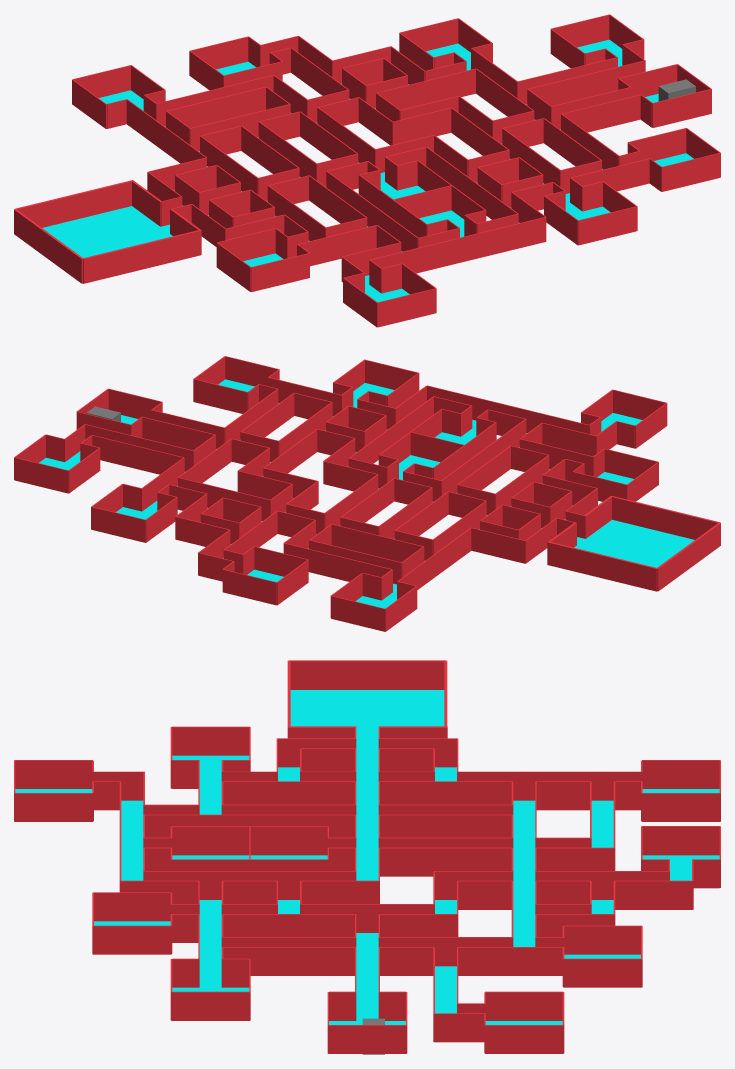
Rendered from SpaceShipOri.fbx.
The picture shows the model from 3 angles, top to bottom: view 1: azimuth 30°, elevation 25°; view 2: azimuth 150°, elevation 25°; view 3: azimuth 270°, elevation 25°; orthographic projection. The views are drawn at different scales.
Visible parts, largest first — view 1: Plane__1__45, Cube__5__19, Cube__5__20, Cube__5__21, Cube__5__32, Cube__5__16, Cube__5__56, Cube__1_, Cube__8__10, Cube__5__34, Cube__6_, Cube__6__5 (+74 smaller); view 2: Plane__1__45, Cube__5__20, Cube__5__19, Cube__5__21, Cube__5__15, Cube__5__52, Cube__5__43, Cube__5__40, Cube__5__48, Cube__5__5, Cube__8__16, Cube__5_ (+73 smaller); view 3: Plane__1__45, Cube__5__21, Cube__5__39, Cube__5__54, Cube__5__17, Cube__5__23, Cube__5__27, Cube__5__36, Cube__5__44, Cube__5__50, Cube__5__38, Cube__5__55 (+99 smaller).
Boxes of the visible parts, bbox=[...] form: Plane__1__45: bbox=[42, 206, 172, 257]; Cube__5__19: bbox=[82, 230, 200, 283]; Cube__5__20: bbox=[14, 180, 132, 227]; Cube__5__21: bbox=[14, 209, 83, 283]; Cube__5__32: bbox=[377, 288, 436, 327]; Cube__5__16: bbox=[661, 153, 720, 191]; Cube__5__56: bbox=[578, 206, 637, 245]; Cube__1_: bbox=[652, 89, 711, 127]; Cube__8__10: bbox=[449, 226, 507, 265]; Cube__5__34: bbox=[251, 253, 309, 292]; Cube__6_: bbox=[582, 94, 640, 132]; Cube__6__5: bbox=[548, 69, 607, 105]; Plane__1__45: bbox=[574, 519, 694, 567]; Cube__5__20: bbox=[549, 542, 657, 591]; Cube__5__19: bbox=[611, 496, 720, 539]; Cube__5__21: bbox=[657, 522, 720, 591]; Cube__5__15: bbox=[193, 379, 248, 413]; Cube__5__52: bbox=[14, 457, 68, 493]; Cube__5__43: bbox=[222, 569, 276, 605]; Cube__5__40: bbox=[91, 507, 145, 542]; Cube__5__48: bbox=[331, 596, 385, 631]; Cube__5__5: bbox=[110, 439, 164, 474]; Cube__8__16: bbox=[350, 528, 404, 562]; Cube__5_: bbox=[142, 417, 195, 450]; Plane__1__45: bbox=[290, 690, 444, 755]; Cube__5__21: bbox=[289, 660, 445, 689]; Cube__5__39: bbox=[563, 958, 641, 987]; Cube__5__54: bbox=[93, 925, 171, 954]; Cube__5__17: bbox=[171, 991, 249, 1020]; Cube__5__23: bbox=[171, 826, 249, 855]; Cube__5__27: bbox=[250, 826, 328, 855]; Cube__5__36: bbox=[172, 726, 249, 755]; Cube__5__44: bbox=[642, 826, 720, 855]; Cube__5__50: bbox=[485, 991, 562, 1020]; Cube__5__38: bbox=[563, 925, 641, 954]; Cube__5__55: bbox=[93, 892, 171, 921].
Bounding box in the file's own units: 11029 × 417 × 9019.
